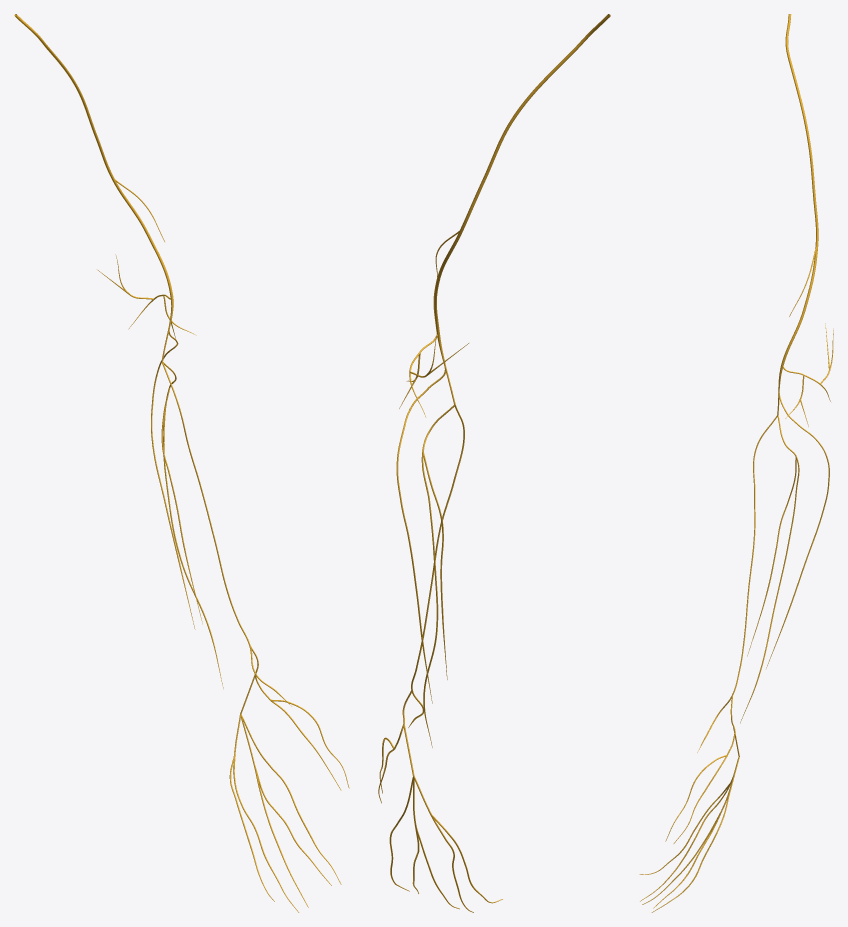
The model's file is nervoso-radial-nerve-l.glb.
3 renders of one model, left to right at view 1: azimuth 30°, elevation 25°; view 2: azimuth 150°, elevation 25°; view 3: azimuth 270°, elevation 25°, orthographic. The views are drawn at different scales.
Parts seen in each view (by area): view 1: Dorsal digital branches of radial nerve.l, Radial nerve.l, Superficial branch of radial nerve.l; view 2: Radial nerve.l, Dorsal digital branches of radial nerve.l, Superficial branch of radial nerve.l, Posterior antebrachial cutaneous nerve.l, Deep branch of radial nerve.l; view 3: Dorsal digital branches of radial nerve.l, Radial nerve.l, Superficial branch of radial nerve.l, Deep branch of radial nerve.l, Posterior antebrachial cutaneous nerve.l.
Boxes of the visible parts, x1,y1,x2,y2 form: Dorsal digital branches of radial nerve.l: (229, 699, 349, 912); Radial nerve.l: (14, 14, 173, 361); Superficial branch of radial nerve.l: (161, 362, 291, 714); Radial nerve.l: (433, 14, 610, 405); Dorsal digital branches of radial nerve.l: (378, 737, 502, 912); Superficial branch of radial nerve.l: (393, 405, 464, 776); Posterior antebrachial cutaneous nerve.l: (396, 366, 445, 703); Deep branch of radial nerve.l: (421, 405, 455, 747); Dorsal digital branches of radial nerve.l: (639, 755, 739, 912); Radial nerve.l: (777, 14, 818, 415); Superficial branch of radial nerve.l: (697, 415, 777, 756); Deep branch of radial nerve.l: (740, 415, 799, 723); Posterior antebrachial cutaneous nerve.l: (766, 390, 829, 668).
Bounding box in the file's own units: 0.2129 × 0.6779 × 0.1496.
